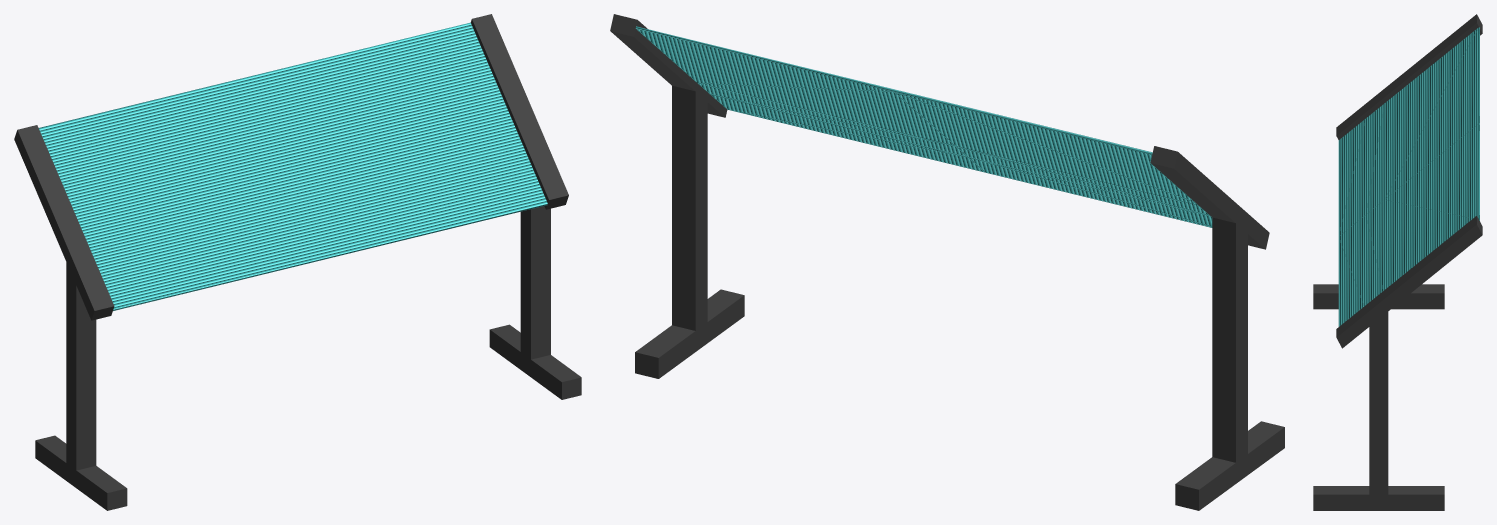
Rendered from panel.FBX.
The picture shows the model from 3 angles, left to right: view 1: azimuth 30°, elevation 25°; view 2: azimuth 150°, elevation 25°; view 3: azimuth 270°, elevation 25°; orthographic projection. The views are drawn at different scales.
Visible parts, largest first — view 1: Box001; view 2: Box001; view 3: Box001.
Part boxes in pixels (x1,y1,x2,y2): Box001: (14,14,581,510); Box001: (610,14,1284,510); Box001: (1313,14,1482,510).
Bounding box in the file's own units: 59.7 × 37.91 × 20.3.
